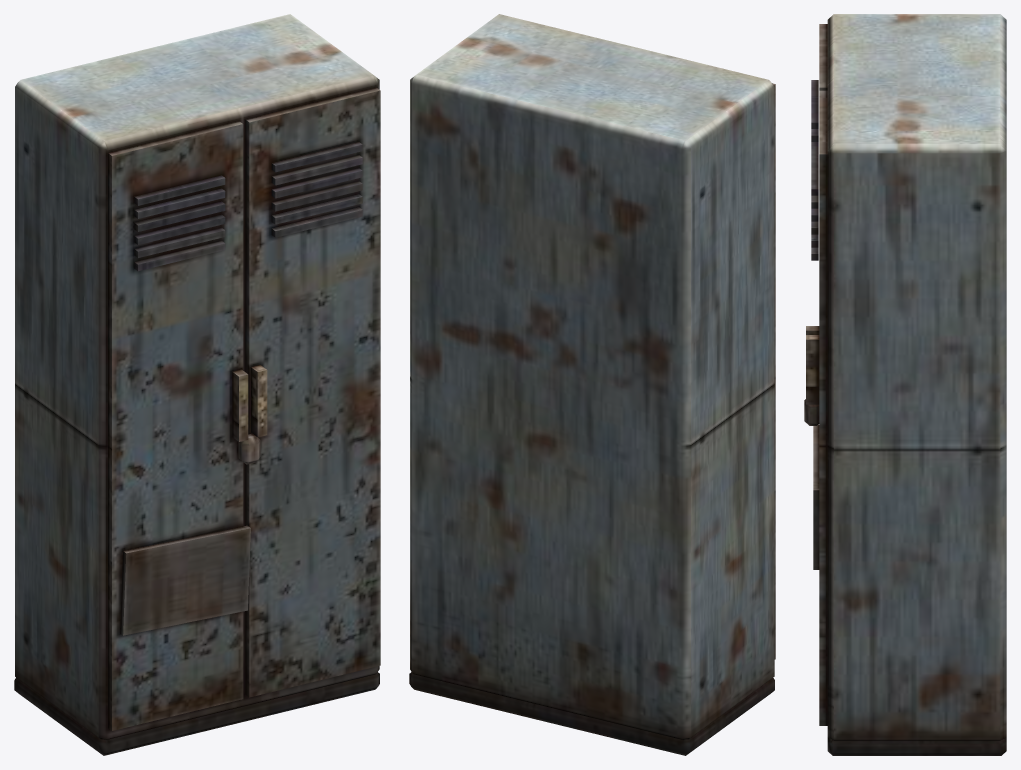
File: armario.glb
3 views of the same model, side by side, from view 1: azimuth 30°, elevation 25°; view 2: azimuth 150°, elevation 25°; view 3: azimuth 270°, elevation 25° (orthographic).
Parts seen in each view (by area): view 1: armario; view 2: armario; view 3: armario.
Part boxes in pixels (left/top/right/bottom): armario: left=14, top=14, right=380, bottom=755; armario: left=409, top=14, right=775, bottom=755; armario: left=804, top=14, right=1006, bottom=755.
Bounding box in the file's own units: 0.9 × 1.88 × 0.565.
Materials: 1 (1 with a texture image).
